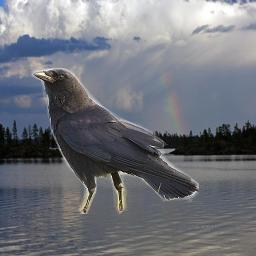Crow: (31, 68, 199, 214)
